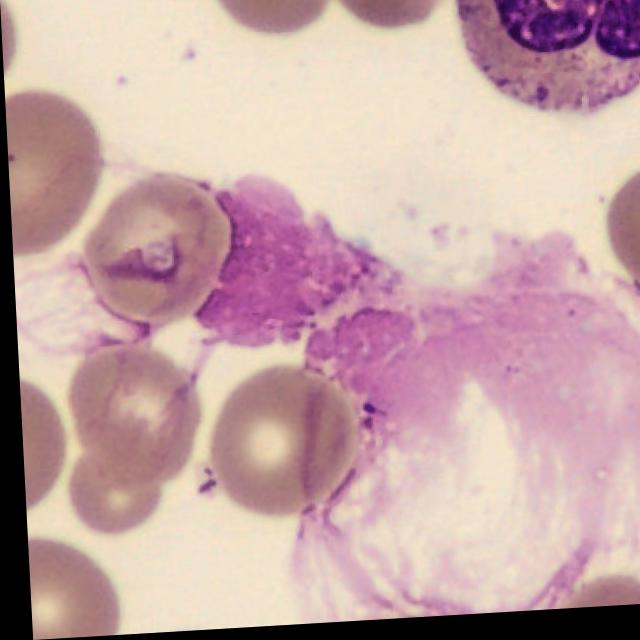Neutrofilo segmentado: (455, 0, 640, 121)
